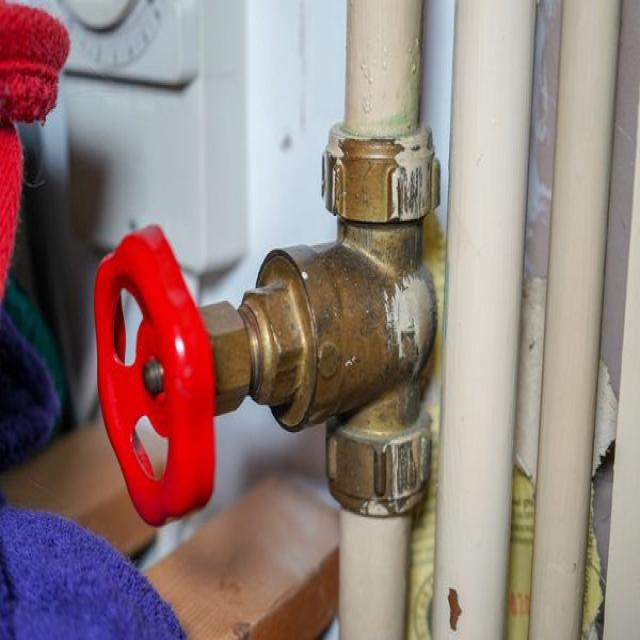Wheel Handle Valve Threaded: (93, 128, 429, 525)
